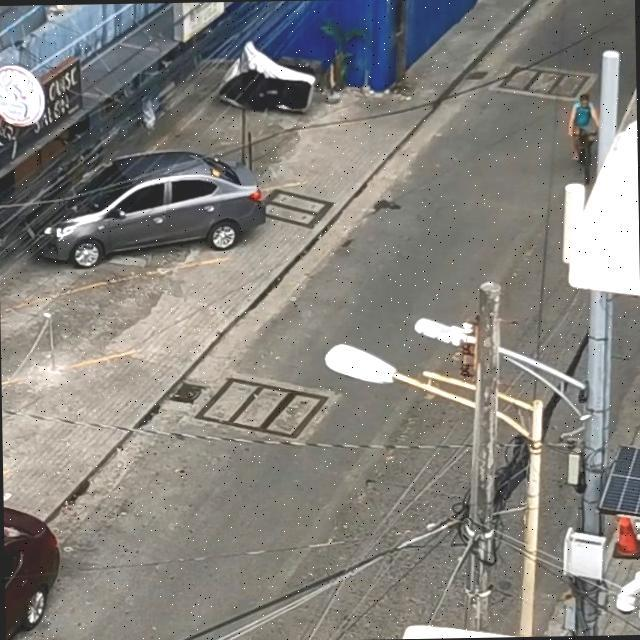Bike: (566, 88, 602, 178)
